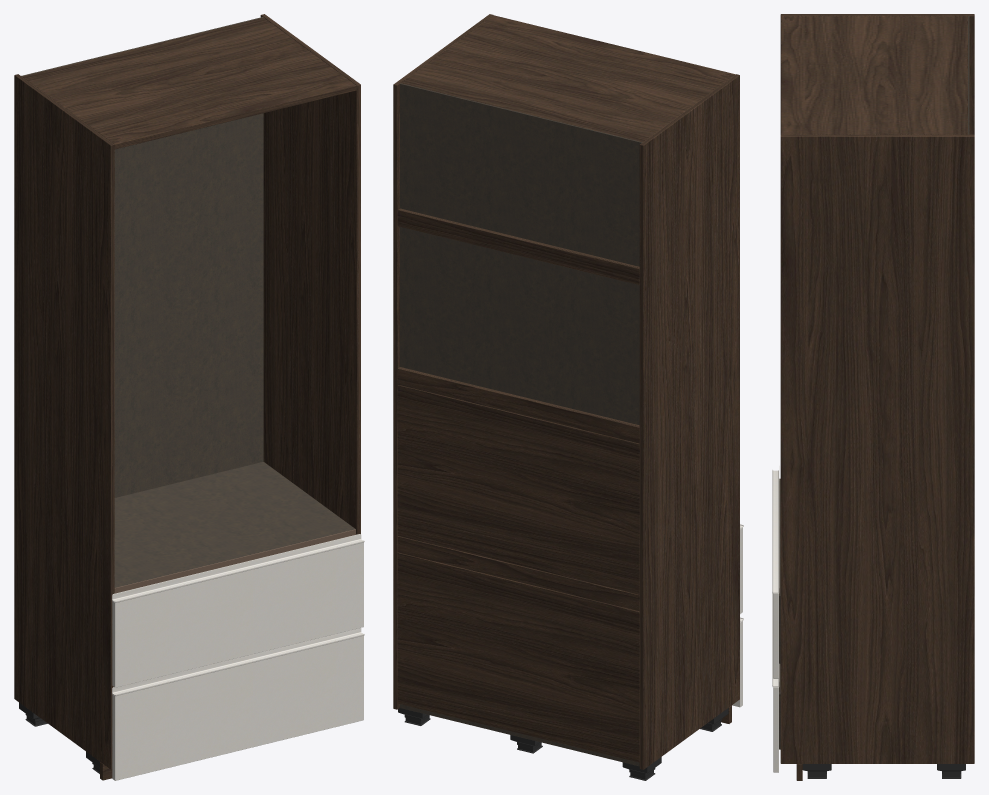
3 renders of one model, left to right at view 1: azimuth 30°, elevation 25°; view 2: azimuth 150°, elevation 25°; view 3: azimuth 270°, elevation 25°, orthographic.
Parts seen in each view (by area): view 1: HK1001260; view 2: HK1001260; view 3: HK1001260.
Boxes of the visible parts, <box> form: HK1001260: <box>14,14,364,780</box>; HK1001260: <box>393,14,743,780</box>; HK1001260: <box>772,14,974,780</box>.
Bounding box in the file's own units: 0.9 × 2.2 × 0.6256.
Materials: 8 (7 with a texture image).
